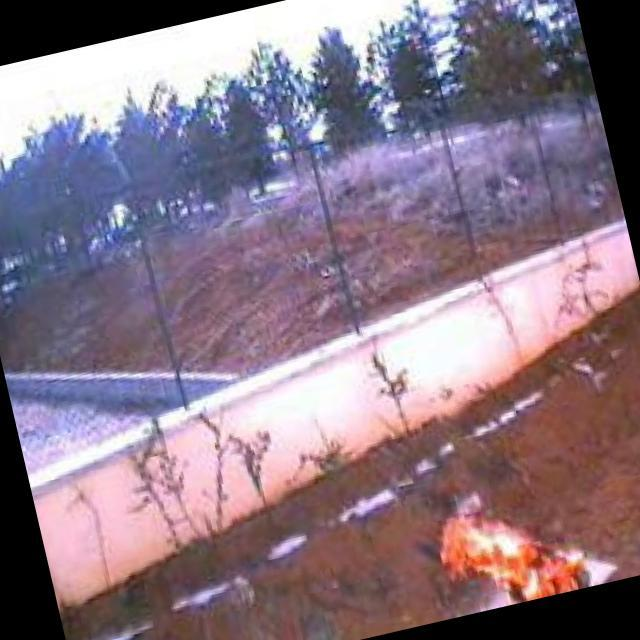Fire: (434, 482, 601, 618)
